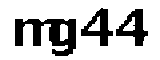4: (80, 5, 114, 48), (115, 5, 149, 48)
g: (49, 19, 79, 59)
m: (8, 17, 58, 48)
